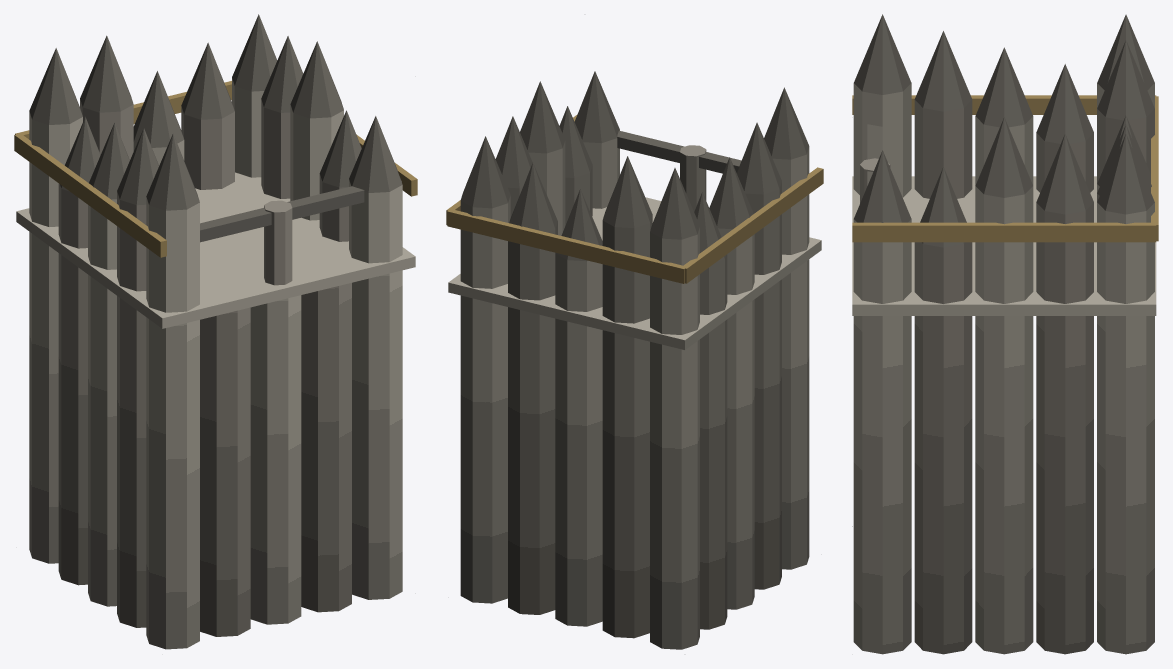
The model's file is perimeter_wall_stone_f0.glb.
3 renders of one model, left to right at view 1: azimuth 30°, elevation 25°; view 2: azimuth 150°, elevation 25°; view 3: azimuth 270°, elevation 25°, orthographic. The views are drawn at different scales.
Bounding box in the file's own units: 2.03 × 3.9 × 2.01.
Materials: 1 (1 with a texture image).
